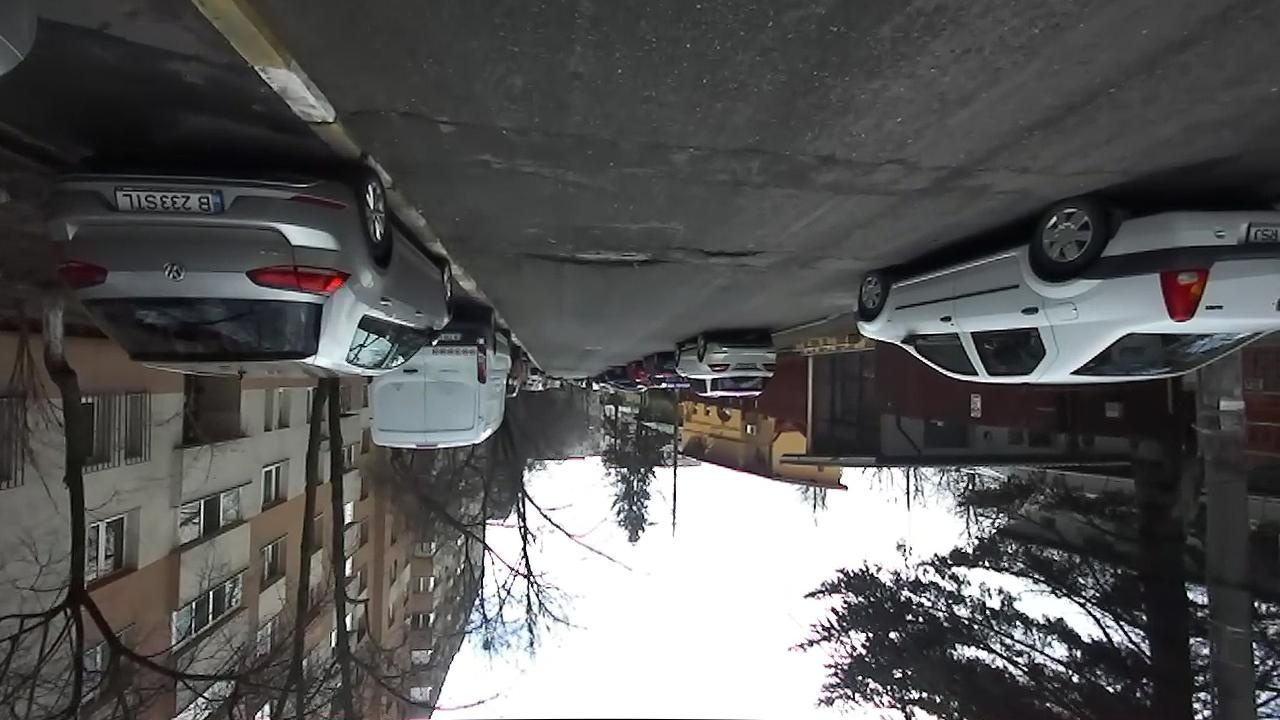pothole: (508, 242, 665, 274), (352, 103, 463, 131), (675, 240, 768, 263)
